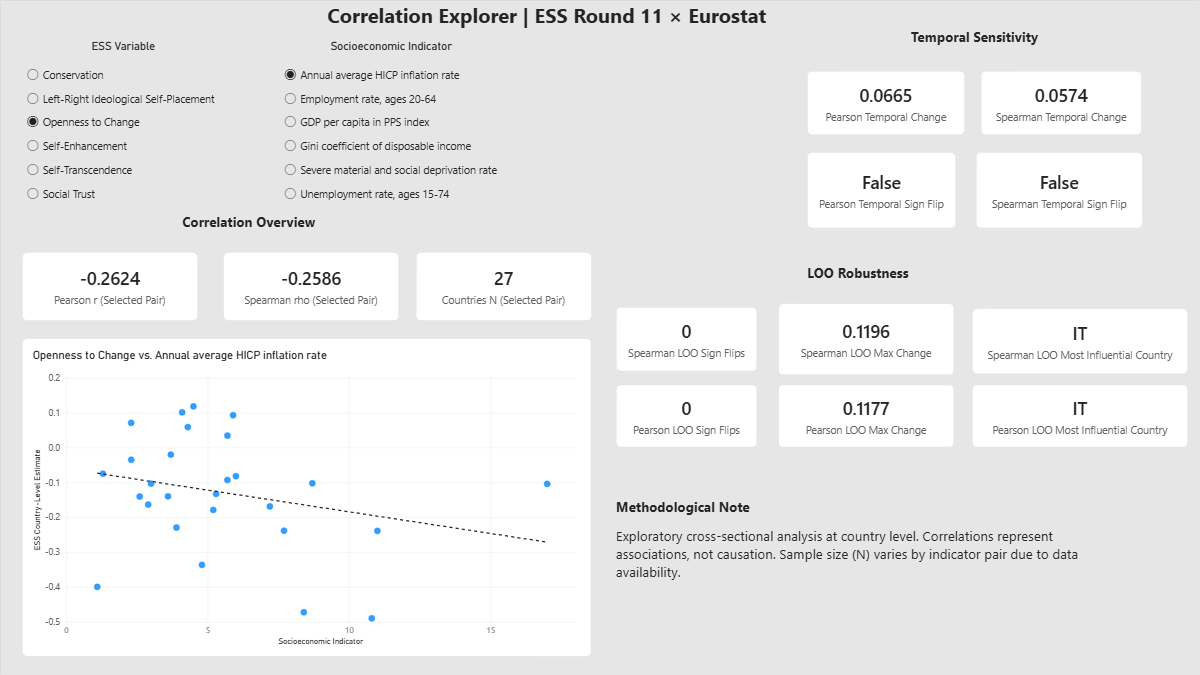

Layout of this report page (visuals, bound fields, positions):
{"tool":"powerbi","page":{"name":"Correlation Explorer","canvas":[1920,1080],"ordinal":2},"visuals":[{"type":"slicer","title":"ESS Variable","fields":{"Values":["dim_ess_variable.display_name"]},"box":[33.3,61.8,323.2,275.7],"z":0},{"type":"slicer","title":"Socioeconomic Indicator","fields":{"Values":["dim_economic_indicator.display_name"]},"box":[446.8,61.8,356.5,275.7],"z":1},{"type":"card","fields":{"Values":["fact_correlation.Pearson r (Selected Pair)"]},"box":[33.3,401.7,280.5,109.3],"z":2},{"type":"card","fields":{"Values":["fact_correlation.Spearman rho (Selected Pair)"]},"box":[356.5,401.7,280.5,109.3],"z":3},{"type":"card","fields":{"Values":["fact_correlation.Countries N (Selected Pair)"]},"box":[663.1,401.7,280.5,109.3],"z":4},{"type":"scatterChart","fields":{"Category":["dim_country.country_name"],"X":["fact_country_economic.Economic Value (Selected Indicator)"],"Y":["fact_country_ess.ESS Value (Selected Variable)"]},"box":[33.3,539.5,910.3,508.6],"z":5},{"type":"card","fields":{"Values":["fact_correlation_robustness.Pearson LOO Max Change"]},"box":[1243.1,613.2,280.5,99.8],"z":6},{"type":"card","fields":{"Values":["fact_correlation_robustness.Pearson LOO Most Influential Country"]},"box":[1554.5,613.2,344.6,99.8],"z":7},{"type":"card","fields":{"Values":["fact_correlation_robustness.Spearman LOO Max Change"]},"box":[1243.1,484.9,280.5,114.1],"z":8},{"type":"card","fields":{"Values":["fact_correlation_robustness.Spearman LOO Most Influential Country"]},"box":[1554.5,492,344.6,104.6],"z":9},{"type":"card","fields":{"Values":["fact_correlation_robustness.Pearson LOO Sign Flips"]},"box":[984,613.2,225.8,99.8],"z":10},{"type":"card","fields":{"Values":["fact_correlation_robustness.Spearman LOO Sign Flips"]},"box":[984,489.6,225.8,102.2],"z":11},{"type":"card","fields":{"Values":["fact_correlation_robustness.Pearson Temporal Change"]},"box":[1290.6,111.7,251.9,102.2],"z":12},{"type":"card","fields":{"Values":["fact_correlation_robustness.Spearman Temporal Change"]},"box":[1568.7,111.7,256.7,102.2],"z":13},{"type":"card","fields":{"Values":["fact_correlation_robustness.Pearson Temporal Sign Flip"]},"box":[1290.6,242.4,237.7,121.2],"z":14},{"type":"card","fields":{"Values":["fact_correlation_robustness.Spearman Temporal Sign Flip"]},"box":[1559.2,242.4,266.2,121.2],"z":15},{"type":"textbox","box":[1457,42.8,442.1,68.9],"z":16},{"type":"textbox","box":[1290.6,420.7,435,64.2],"z":17},{"type":"textbox","box":[290,337.5,373.2,64.2],"z":18},{"type":"textbox","box":[522.9,0,893.7,61.8],"z":19},{"type":"textbox","box":[984,793.9,782,178.3],"z":20}]}

Visuals, with their boxes in screenshot pixels (x1, y1, x2, y2), scaled from the page's 1920x1080 canvas onto the 1200x675 screenshot:
"ESS Variable" slicer: box=[21, 39, 223, 211]
"Socioeconomic Indicator" slicer: box=[279, 39, 502, 211]
card - fact_correlation.Pearson r (Selected Pair): box=[21, 251, 196, 319]
card - fact_correlation.Spearman rho (Selected Pair): box=[223, 251, 398, 319]
card - fact_correlation.Countries N (Selected Pair): box=[414, 251, 590, 319]
scatterChart - dim_country.country_name x fact_country_economic.Economic Value (Selected Indicator): box=[21, 337, 590, 655]
card - fact_correlation_robustness.Pearson LOO Max Change: box=[777, 383, 952, 446]
card - fact_correlation_robustness.Pearson LOO Most Influential Country: box=[972, 383, 1187, 446]
card - fact_correlation_robustness.Spearman LOO Max Change: box=[777, 303, 952, 374]
card - fact_correlation_robustness.Spearman LOO Most Influential Country: box=[972, 308, 1187, 373]
card - fact_correlation_robustness.Pearson LOO Sign Flips: box=[615, 383, 756, 446]
card - fact_correlation_robustness.Spearman LOO Sign Flips: box=[615, 306, 756, 370]
card - fact_correlation_robustness.Pearson Temporal Change: box=[807, 70, 964, 134]
card - fact_correlation_robustness.Spearman Temporal Change: box=[980, 70, 1141, 134]
card - fact_correlation_robustness.Pearson Temporal Sign Flip: box=[807, 152, 955, 227]
card - fact_correlation_robustness.Spearman Temporal Sign Flip: box=[974, 152, 1141, 227]
textbox: box=[911, 27, 1187, 70]
textbox: box=[807, 263, 1078, 303]
textbox: box=[181, 211, 414, 251]
textbox: box=[327, 0, 885, 39]
textbox: box=[615, 496, 1104, 608]
